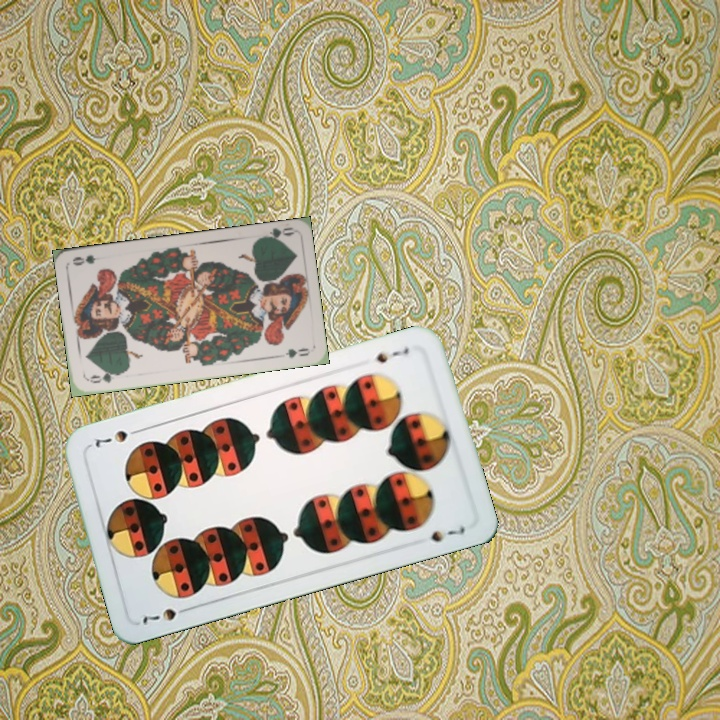GO: (256, 223, 296, 243), (84, 368, 124, 386)
S7: (138, 603, 194, 627), (372, 343, 412, 366)
